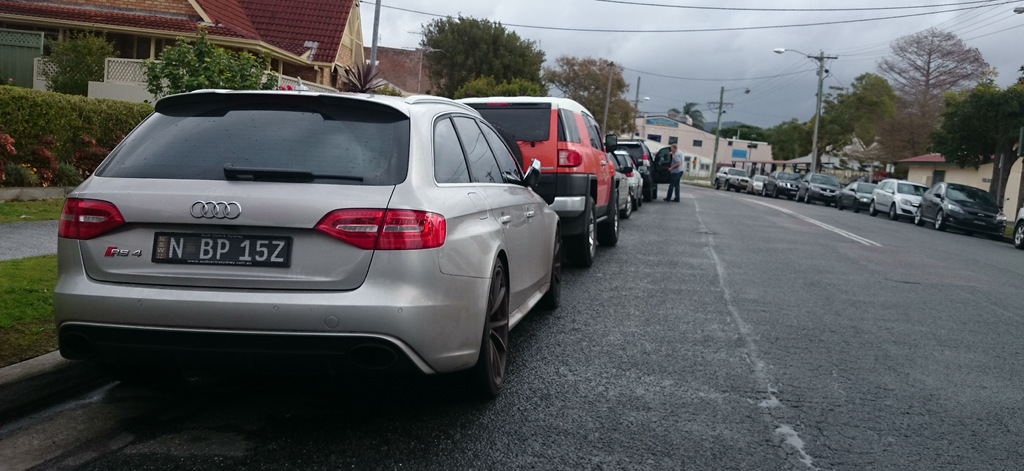license plate: (149, 223, 296, 262)
